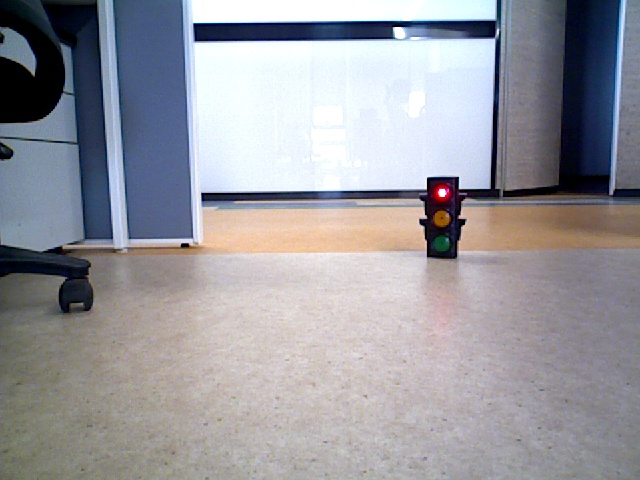red: (425, 178, 457, 254)
